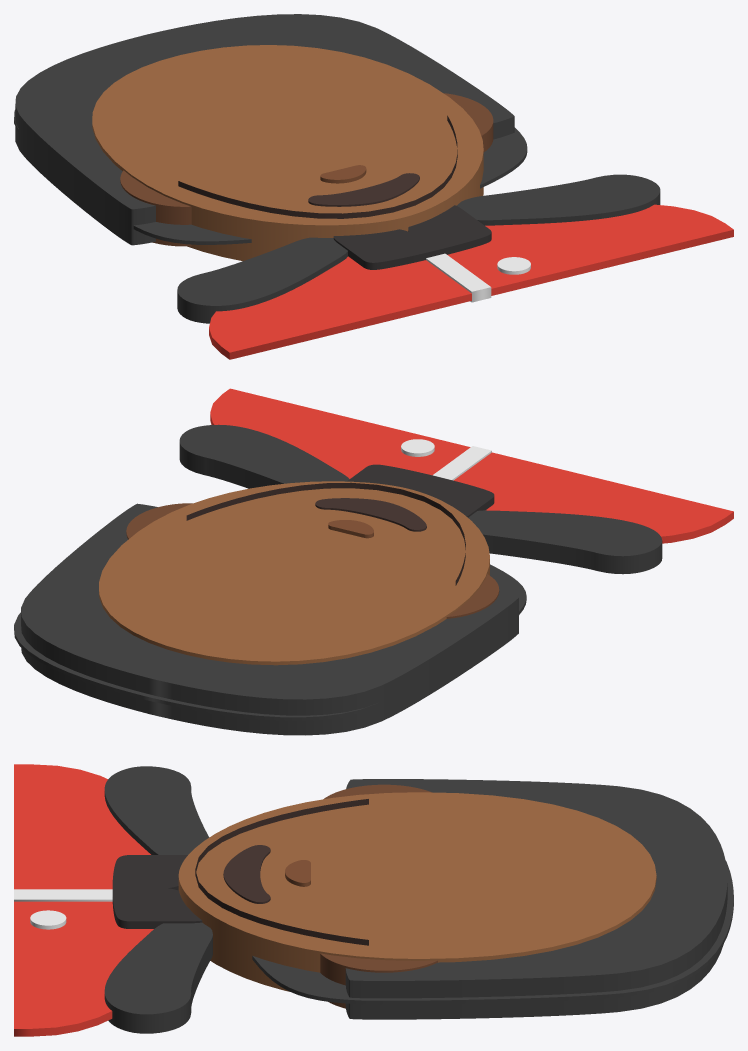
File: emoji_u1f482_1f3fe_200d_2642.glb
3 renders of one model, top to bottom at view 1: azimuth 30°, elevation 25°; view 2: azimuth 150°, elevation 25°; view 3: azimuth 270°, elevation 25°, orthographic. The views are drawn at different scales.
Parts seen in each view (by area): view 1: emoji_u1f482_1f3fe_200d_2642; view 2: emoji_u1f482_1f3fe_200d_2642; view 3: emoji_u1f482_1f3fe_200d_2642.
Part boxes in pixels (bbox=[...]): emoji_u1f482_1f3fe_200d_2642: bbox=[14, 14, 733, 359]; emoji_u1f482_1f3fe_200d_2642: bbox=[14, 388, 733, 735]; emoji_u1f482_1f3fe_200d_2642: bbox=[14, 764, 733, 1036].
Size of the model in its own units: 0.0293 by 0.003 by 0.0337.
